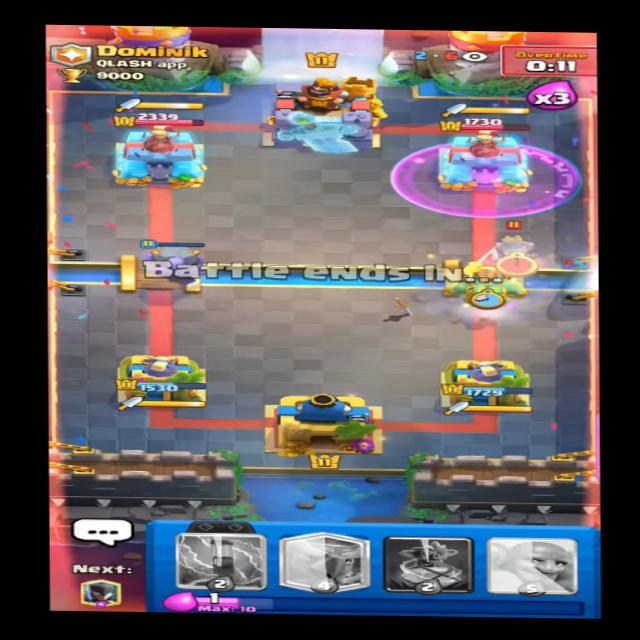royal-ghost: (478, 217, 544, 272)
